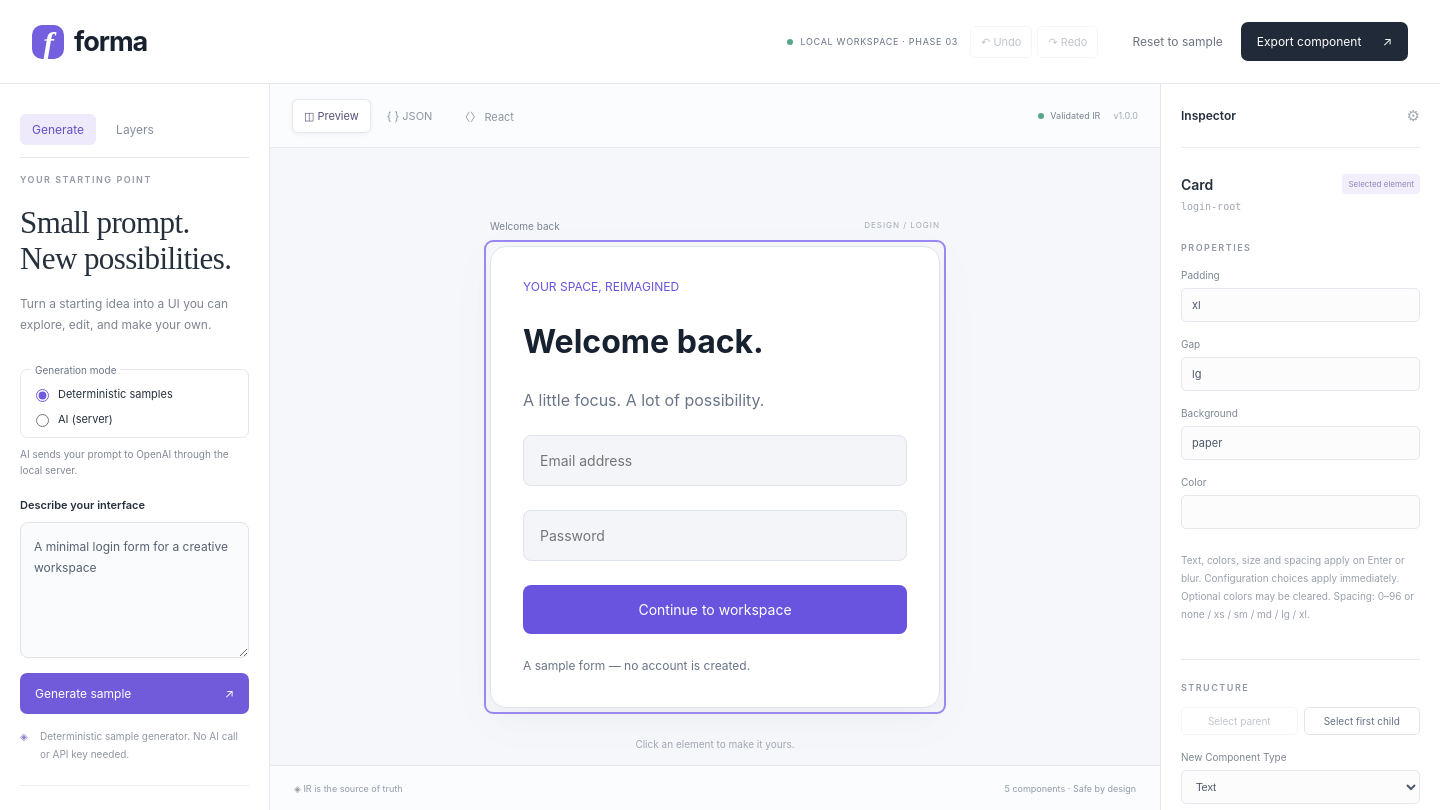
Scenario: AI client integration › shows structured invalid_output errors and preserves the current design
The width and height of the screenshot is (1440, 810).
Expected: the text "AI sends your prompt to OpenAI through the local server." is shown, [20,446,249,478]
Click the radio button labelled "AI (server)".
click(42, 420)  # box [36,414,49,427]
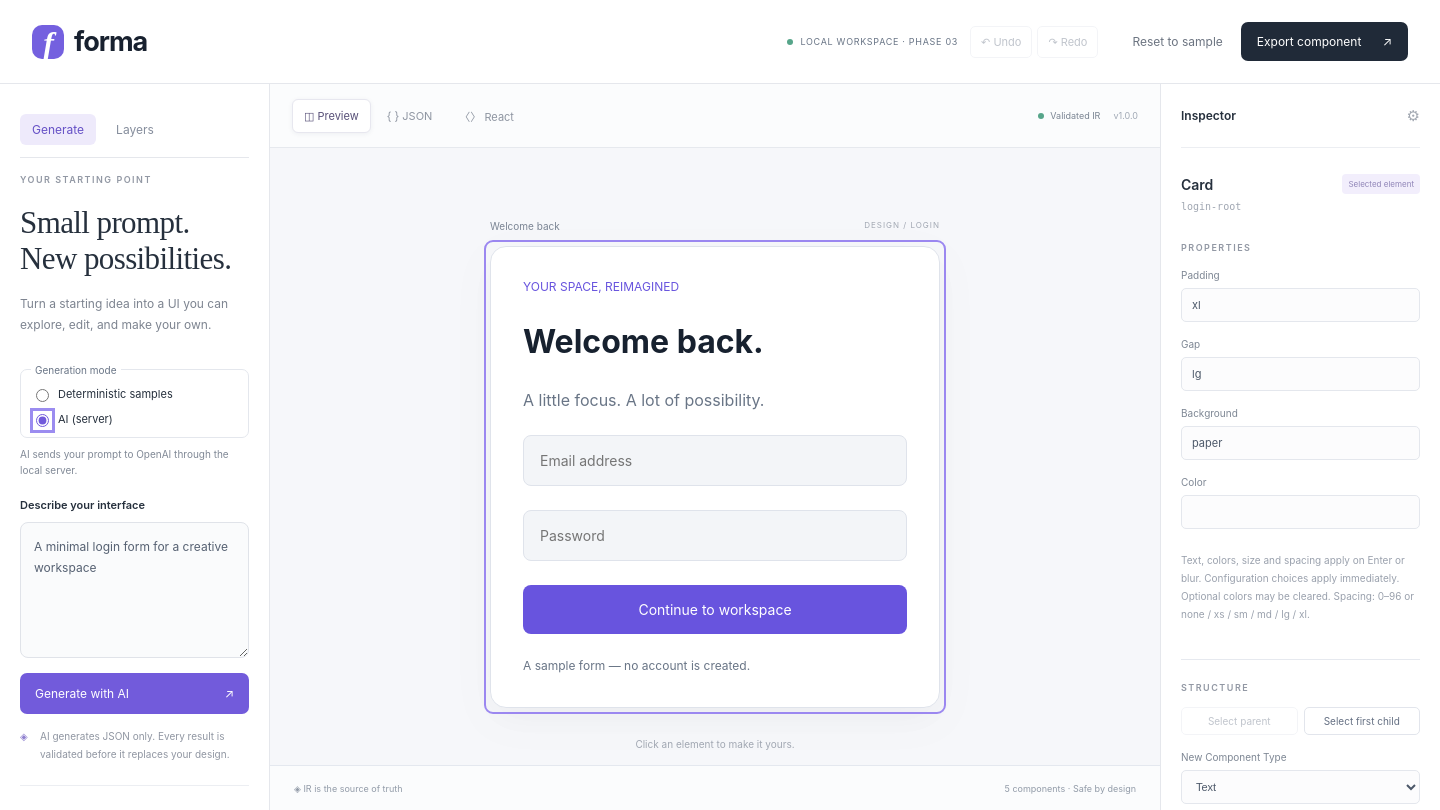
Click the button "Generate with AI ↗".
click(134, 693)  # box [20,673,249,714]
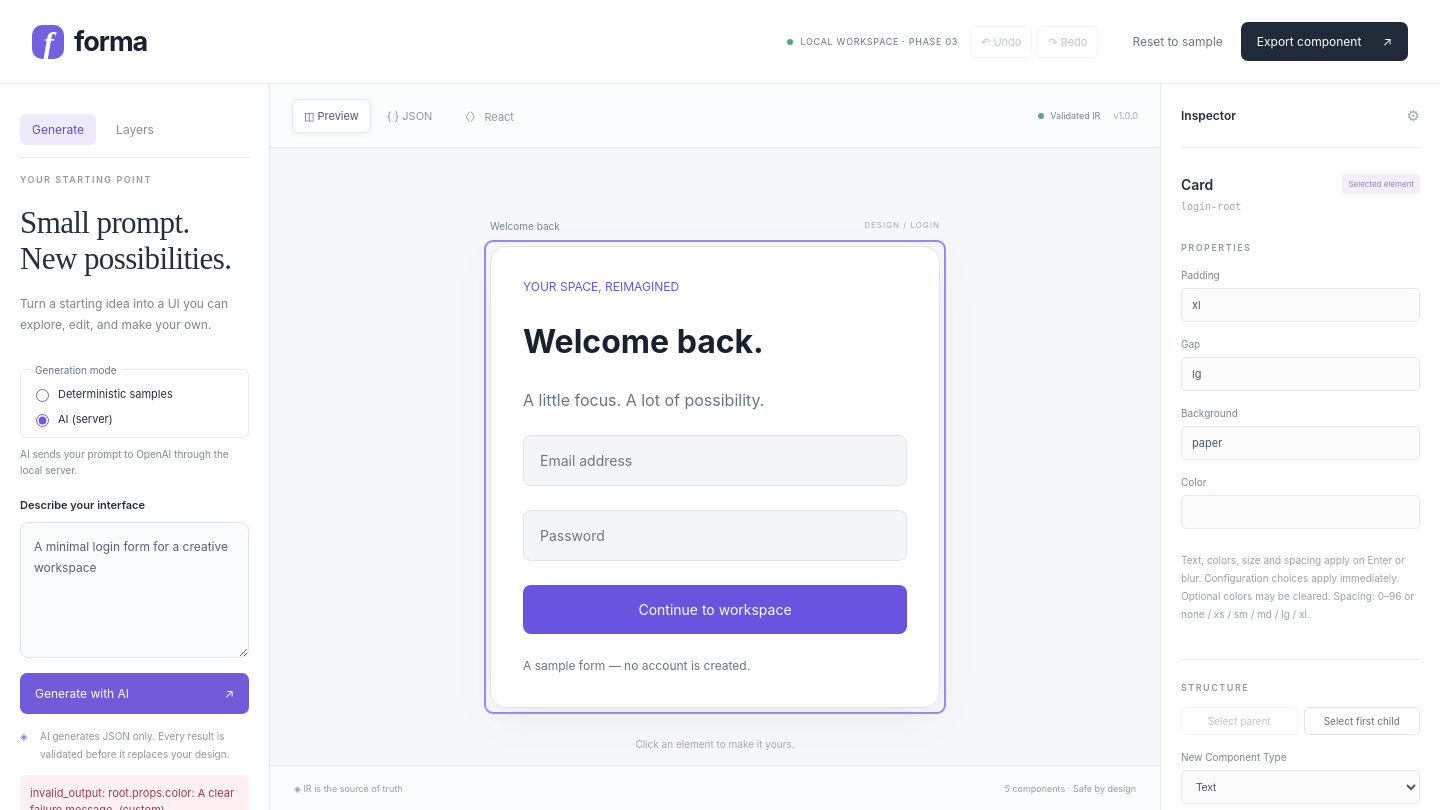
Expected: the message shows "invalid_output", [30,786,237,809]
Expected: the message shows "root.props.color", [30,786,237,809]
Expected: the message shows "custom", [30,786,237,809]
